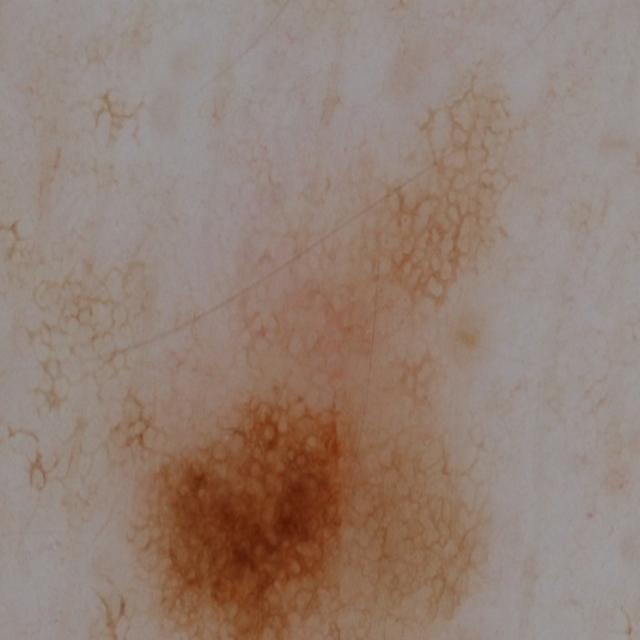Melanoma: (33, 303, 485, 640)
